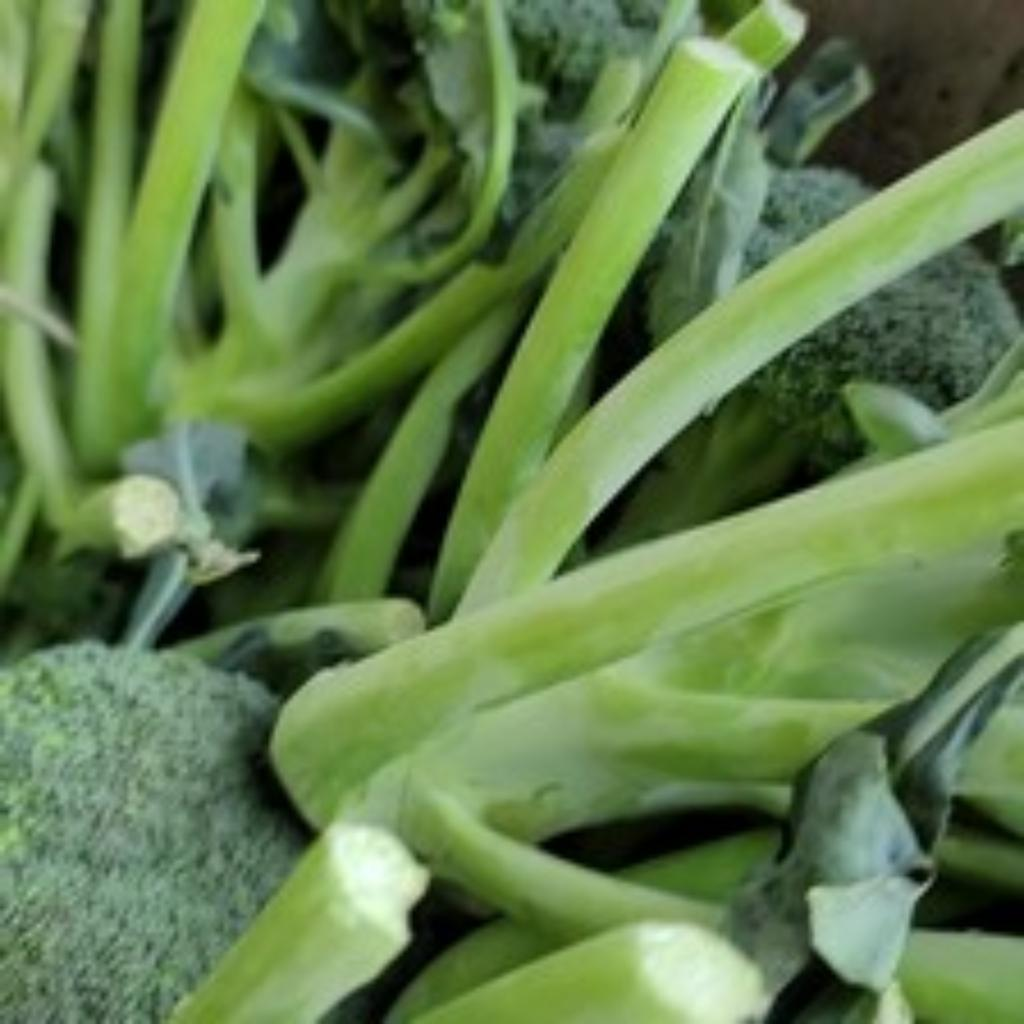Broccoli: (0, 642, 304, 1023), (0, 642, 304, 1023), (756, 246, 1020, 463), (758, 246, 1020, 463), (748, 170, 868, 268), (748, 170, 868, 267)
